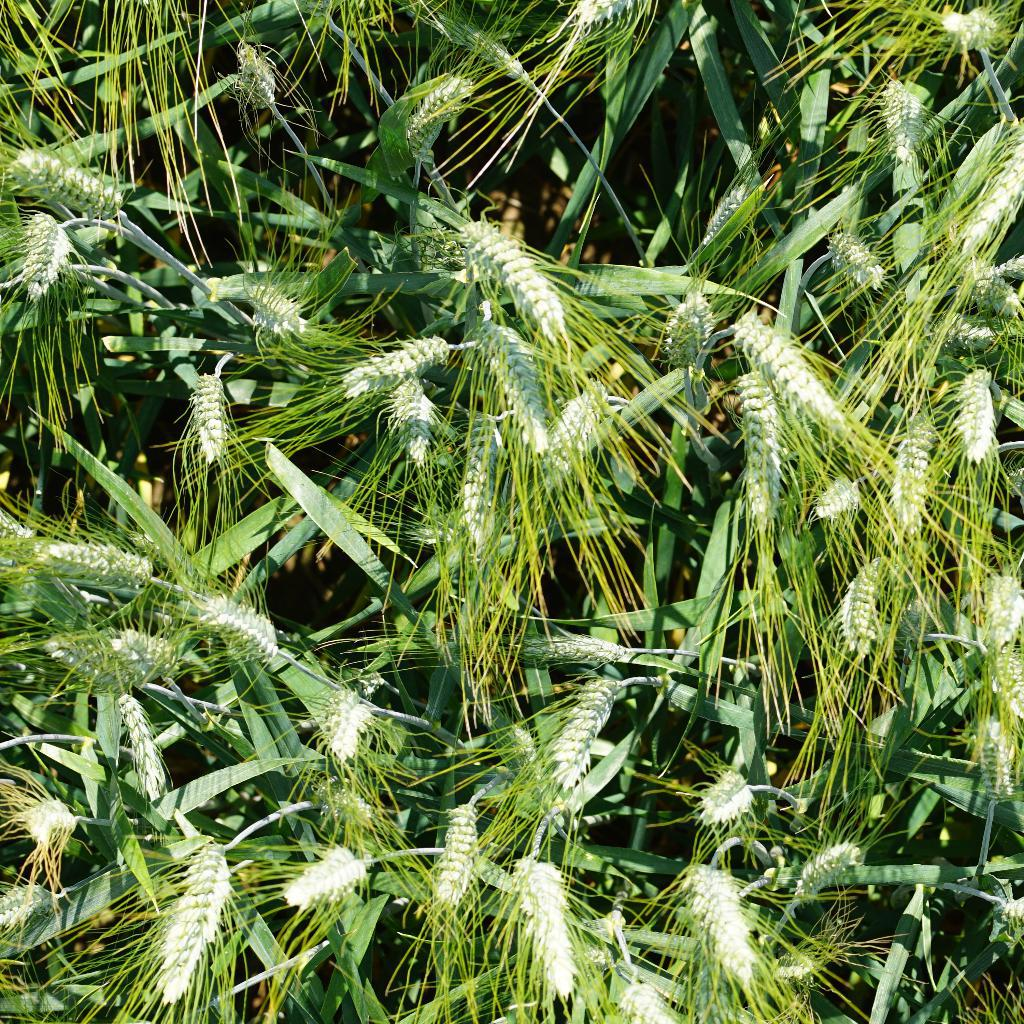0-0: (716, 296, 855, 440), (445, 204, 576, 348), (142, 819, 230, 1005), (500, 662, 621, 796), (460, 302, 552, 453), (705, 359, 789, 518), (511, 860, 594, 1017), (37, 605, 186, 691), (436, 382, 505, 560), (963, 68, 1024, 260), (680, 858, 769, 987), (382, 58, 475, 179), (882, 395, 950, 553), (85, 688, 180, 800), (418, 787, 493, 922), (823, 542, 899, 673), (538, 366, 617, 489), (456, 608, 635, 660), (6, 530, 165, 587), (6, 141, 119, 219), (333, 324, 463, 391), (434, 6, 547, 83), (944, 350, 1009, 474), (189, 590, 292, 668), (268, 840, 378, 912), (676, 171, 759, 264), (3, 209, 81, 299), (380, 358, 444, 466), (563, 905, 635, 1001), (183, 358, 243, 470), (875, 68, 938, 174), (236, 271, 326, 344), (651, 276, 716, 374), (0, 876, 78, 952), (817, 216, 894, 292), (788, 830, 864, 907), (223, 32, 286, 119), (1, 792, 82, 859), (311, 673, 374, 758), (930, 0, 1011, 60), (968, 721, 1024, 803), (309, 777, 380, 838), (621, 980, 717, 1024), (974, 559, 1024, 643), (918, 302, 996, 355), (803, 460, 866, 523), (692, 765, 757, 825), (975, 649, 1024, 721), (959, 255, 1024, 307), (769, 944, 829, 992)
